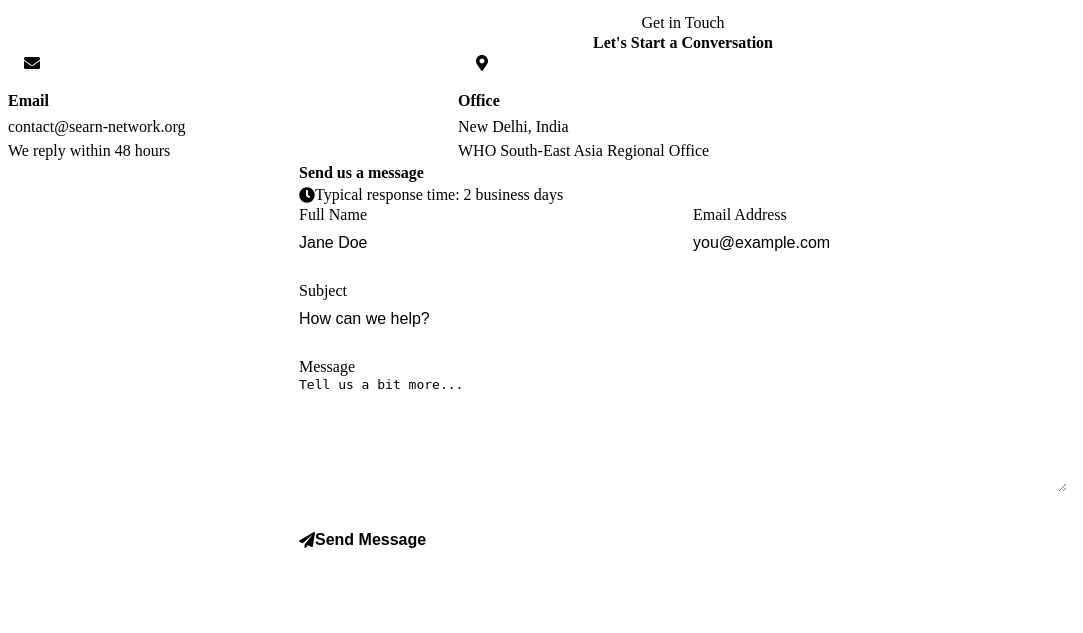
it: Contact › shows validation errors for empty required fields
Click the button "Send Message" at (363,540), box left=299, top=512, right=426, bottom=568
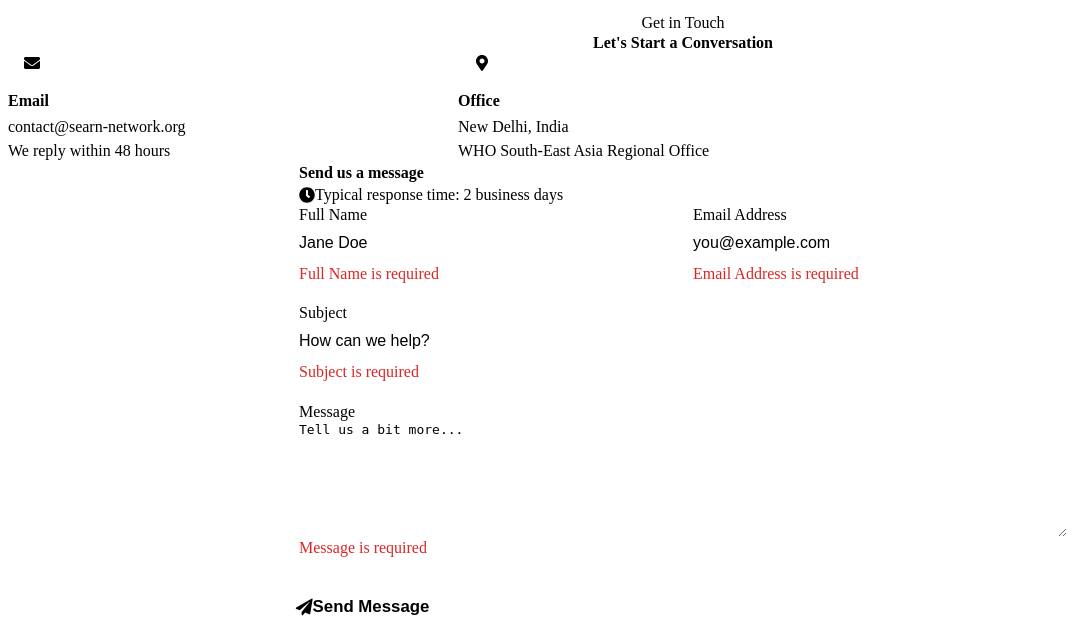
Check: the text "Full Name is required" is shown, box left=299, top=265, right=439, bottom=282
Check: the text "Email Address is required" is shown, box left=693, top=265, right=859, bottom=282
Check: the text "Subject is required" is shown, box left=299, top=363, right=419, bottom=380
